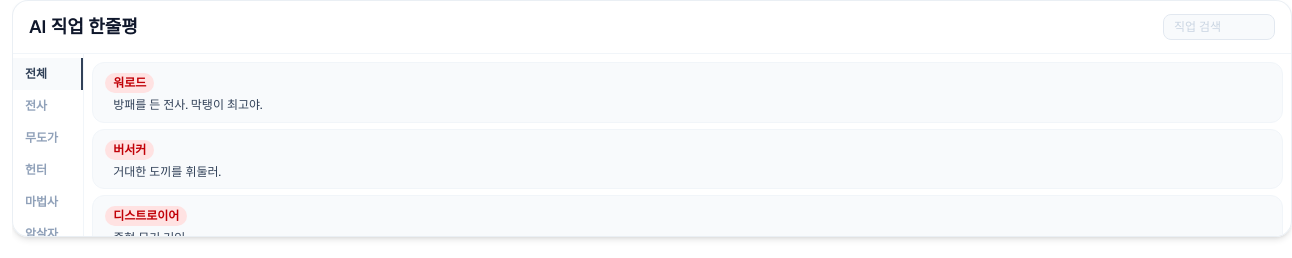
Test: ClassSummaryList › 탭 클릭 시 검색어가 초기화되고 탭의 직업들이 표시된다
In the field with placeholder "직업 검색": coordinates (1219, 27) [1163, 14, 1275, 40], type "워로드"
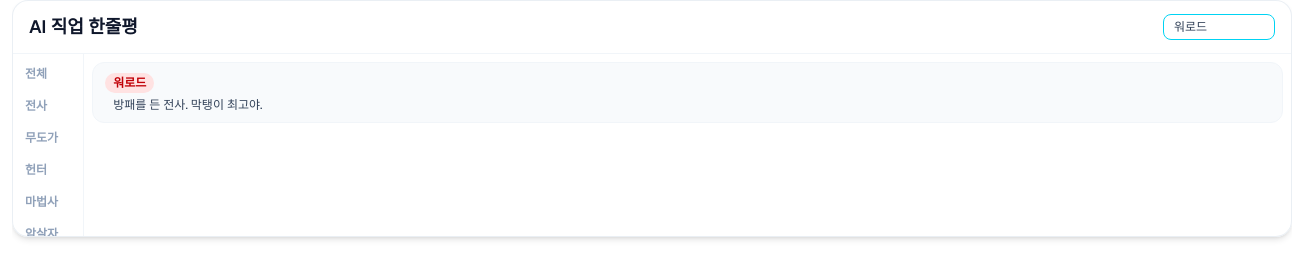
Expected: the text "워로드" is shown, [105, 73, 154, 93]
Expected: the text "버서커" is gone
//  전사 탭 클릭
Click the button "전사": coordinates (48, 106) [13, 90, 83, 122]
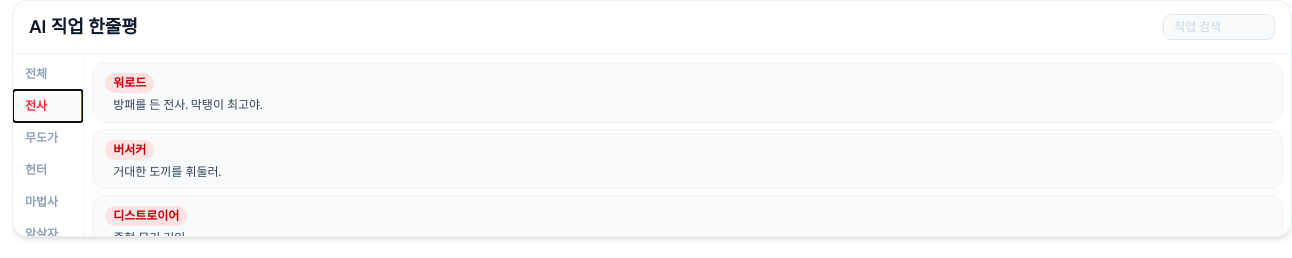
Expected: the field with placeholder "직업 검색" is empty, [1163, 14, 1275, 40]
Expected: the text "버서커" is shown, [105, 140, 154, 160]
Expected: the text "디스트로이어" is shown, [105, 206, 188, 226]
